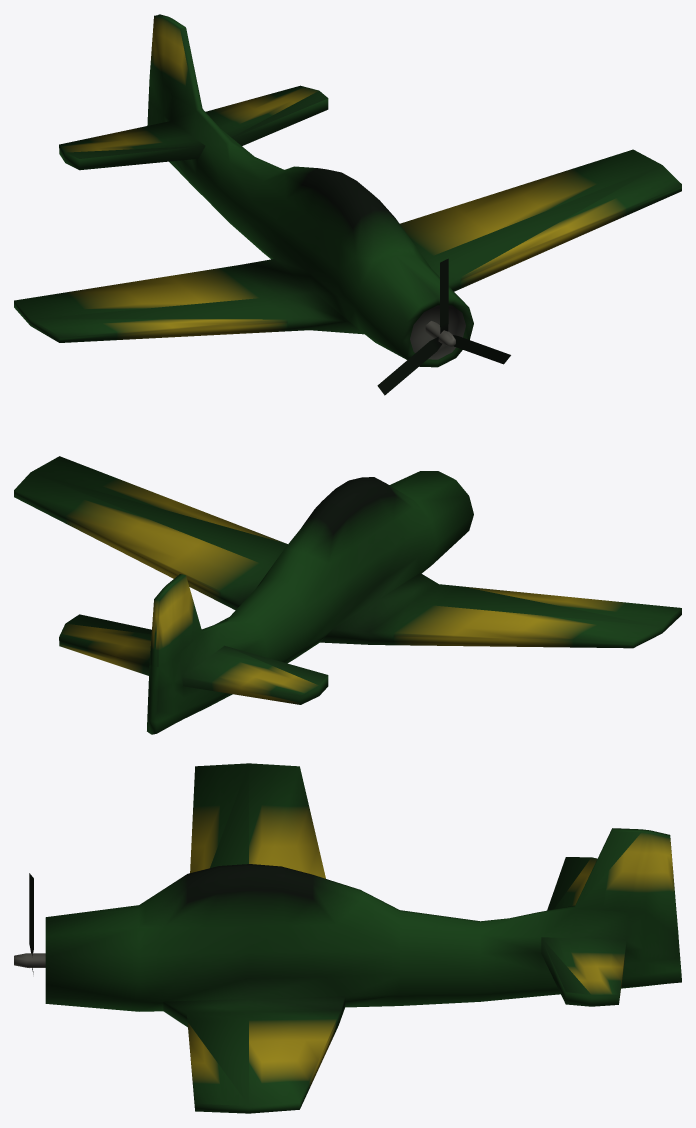
Rendered from traffic-warbird-prop.glb.
The picture shows the model from 3 angles, top to bottom: view 1: azimuth 30°, elevation 25°; view 2: azimuth 150°, elevation 25°; view 3: azimuth 270°, elevation 25°; orthographic projection. The views are drawn at different scales.
Visible parts, largest first — view 1: warbird_prop; view 2: warbird_prop; view 3: warbird_prop.
Boxes of the visible parts, x1,y1,x2,y2 form: warbird_prop: (14,14,681,395); warbird_prop: (14,456,681,734); warbird_prop: (14,763,681,1113).
Bounding box in the file's own units: 7.83 × 1.91 × 6.45.
